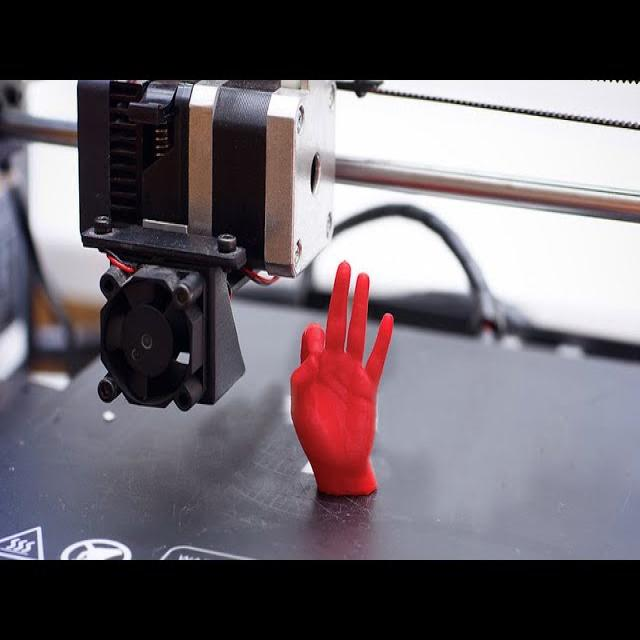Without deffect: (292, 252, 410, 506)
